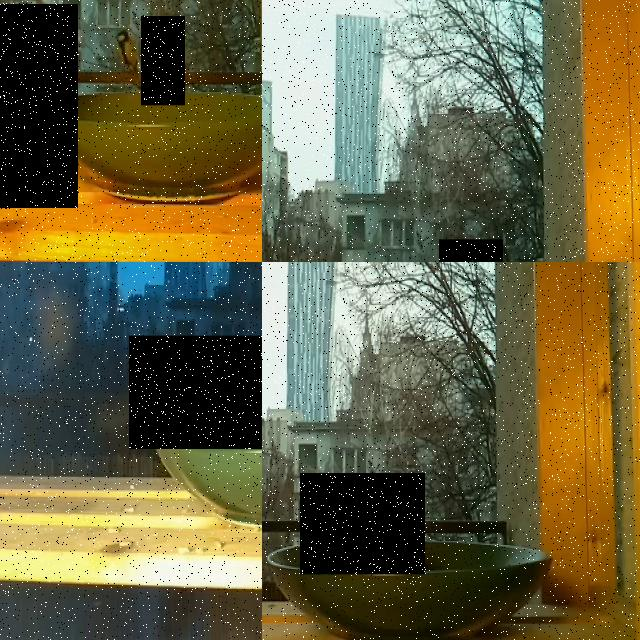Bogatka: (0, 4, 78, 208), (129, 335, 262, 449), (300, 473, 425, 574)
Modraszka: (141, 16, 185, 105)
Wrobel: (439, 239, 503, 262)
